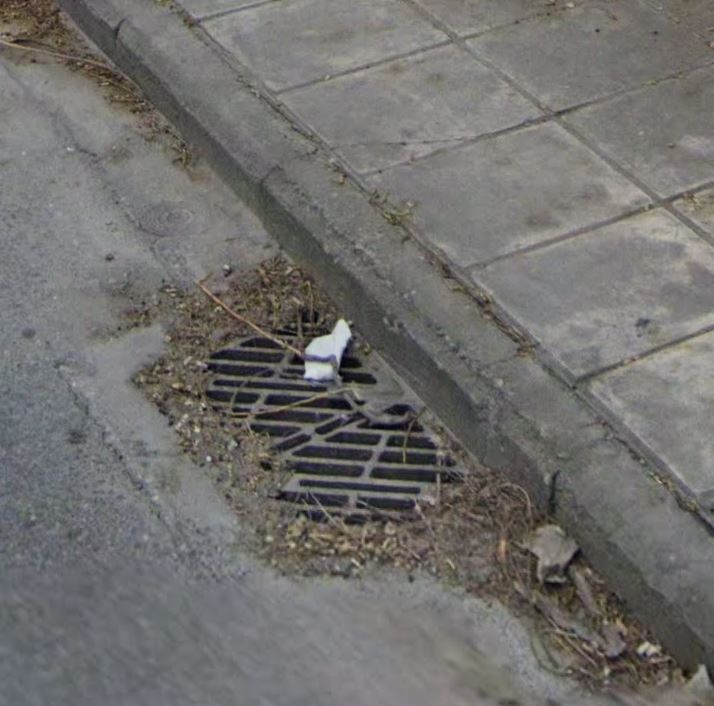trash: (269, 298, 366, 394)
